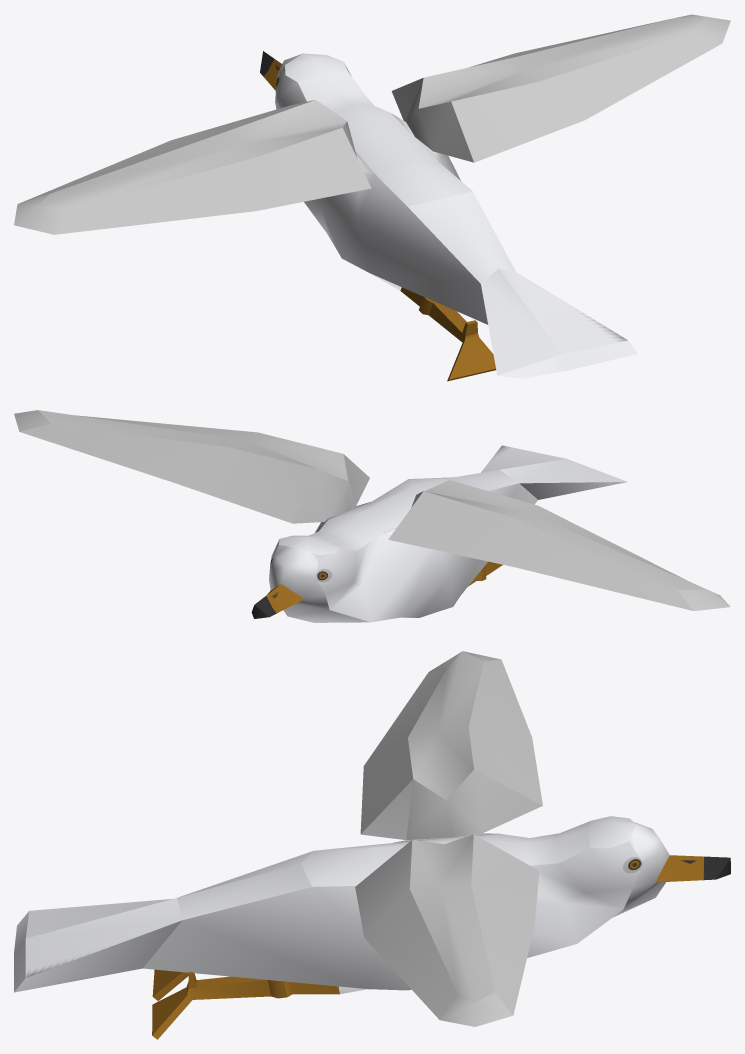
The model's file is seagull.glb.
3 renders of one model, top to bottom at view 1: azimuth 30°, elevation 25°; view 2: azimuth 150°, elevation 25°; view 3: azimuth 270°, elevation 25°, orthographic. The views are drawn at different scales.
Parts seen in each view (by area): view 1: Coastal gull; view 2: Coastal gull; view 3: Coastal gull.
Part boxes in pixels (bbox=[...]): Coastal gull: bbox=[14, 14, 730, 381]; Coastal gull: bbox=[14, 410, 730, 622]; Coastal gull: bbox=[14, 651, 730, 1039].
Size of the model in its own units: 1.7 by 0.4039 by 1.28.
1 material, 1 textured.
